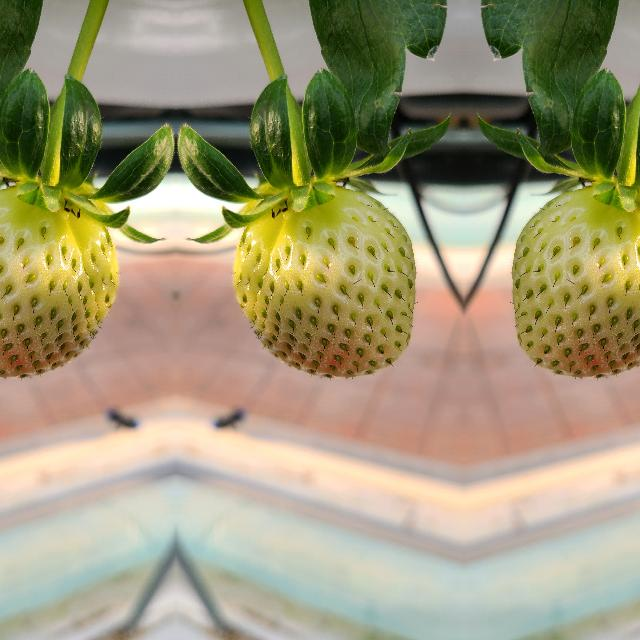Health_50: (233, 188, 415, 376), (511, 187, 640, 376), (0, 187, 117, 376)
